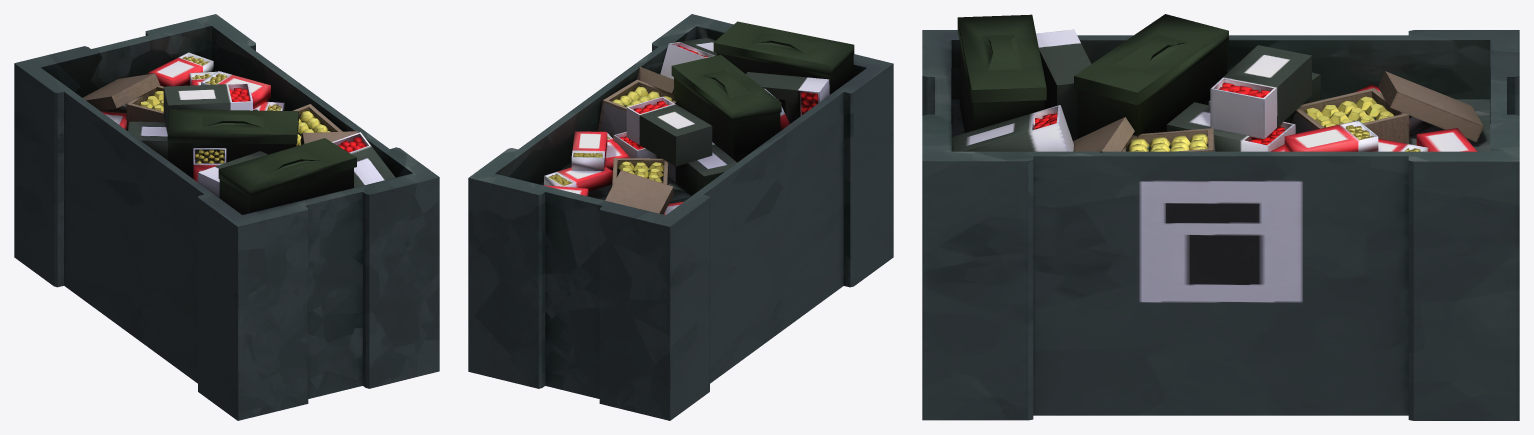
The model's file is ammobox.fbx.
3 renders of one model, left to right at view 1: azimuth 30°, elevation 25°; view 2: azimuth 150°, elevation 25°; view 3: azimuth 270°, elevation 25°, orthographic. The views are drawn at different scales.
Parts seen in each view (by area): view 1: Cube.001; view 2: Cube.001; view 3: Cube.001.
Boxes of the visible parts, x1,y1,x2,y2 form: Cube.001: (14, 14, 439, 420); Cube.001: (468, 14, 893, 420); Cube.001: (922, 14, 1519, 420).
Bounding box in the file's own units: 218 × 227 × 418.
1 material, 1 textured.
